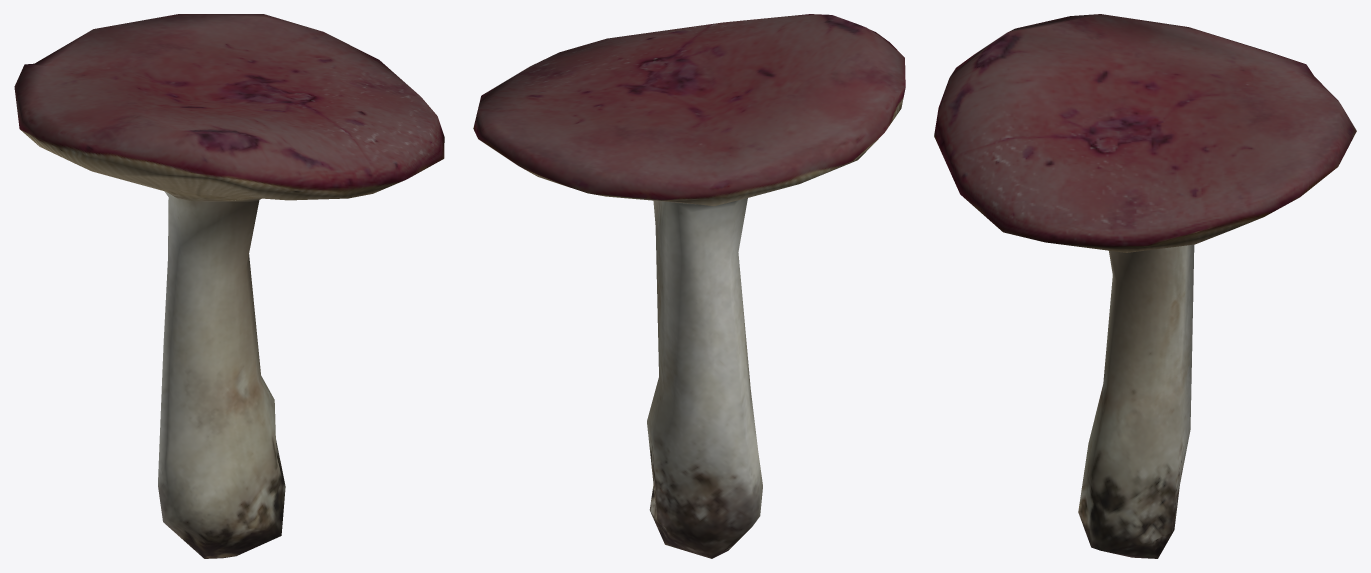
The model's file is Russula_atropurpurea_01.FBX.
3 views of the same model, side by side, from view 1: azimuth 30°, elevation 25°; view 2: azimuth 150°, elevation 25°; view 3: azimuth 270°, elevation 25° (orthographic). The views are drawn at different scales.
Parts seen in each view (by area): view 1: Russula_atropurpurea_01_LOD0; view 2: Russula_atropurpurea_01_LOD0; view 3: Russula_atropurpurea_01_LOD0.
Part boxes in pixels (x1,y1,x2,y2): Russula_atropurpurea_01_LOD0: (14,14,444,558); Russula_atropurpurea_01_LOD0: (473,14,905,558); Russula_atropurpurea_01_LOD0: (934,14,1356,558).
Size of what is drawn, in the model's own units: 155 by 195 by 156.
